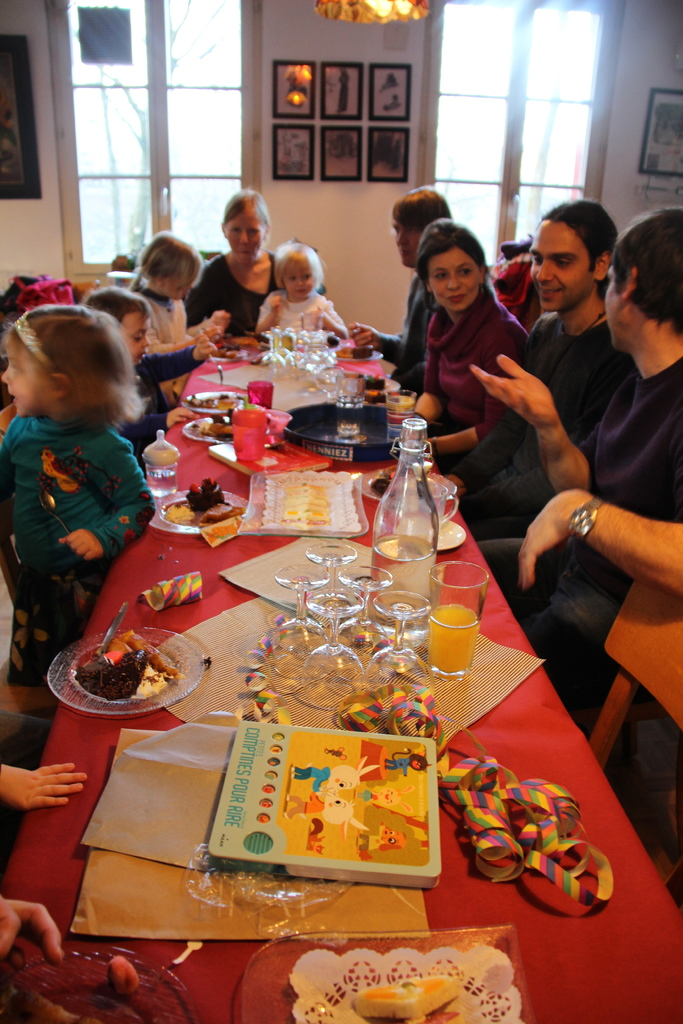Table: (18, 352, 604, 1021)
